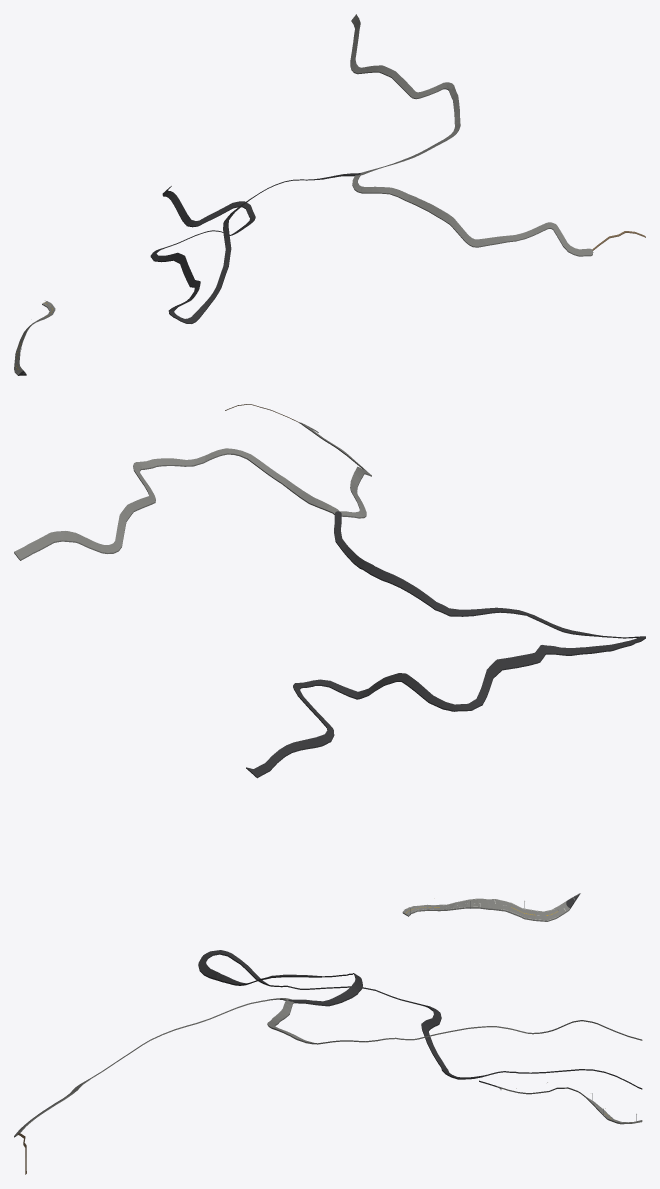
The picture shows the model from 3 angles, top to bottom: view 1: azimuth 30°, elevation 25°; view 2: azimuth 150°, elevation 25°; view 3: azimuth 270°, elevation 25°; orthographic projection. The views are drawn at different scales.
Size of the model in its own units: 588 by 296 by 529.
